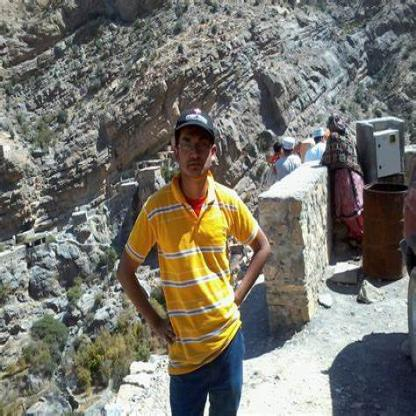person: (110, 90, 259, 409)
